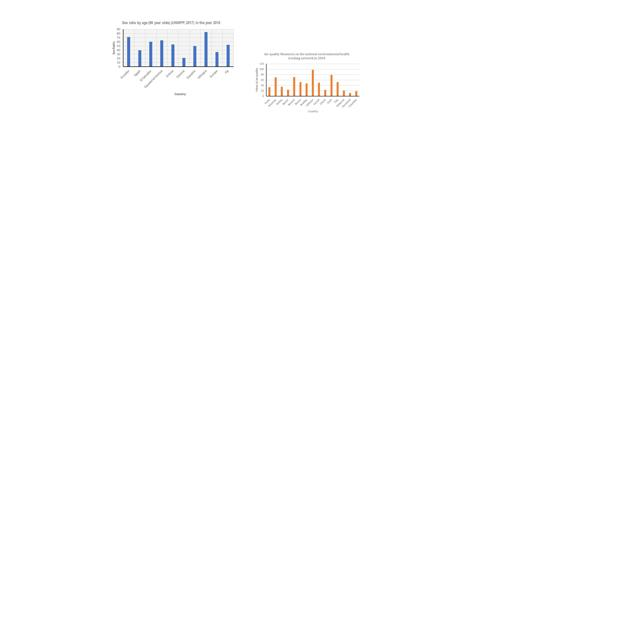Graph: (108, 19, 235, 96), (253, 51, 362, 114)
